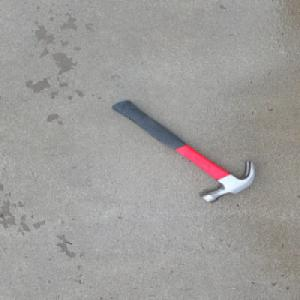Hammer: (110, 99, 257, 203)
